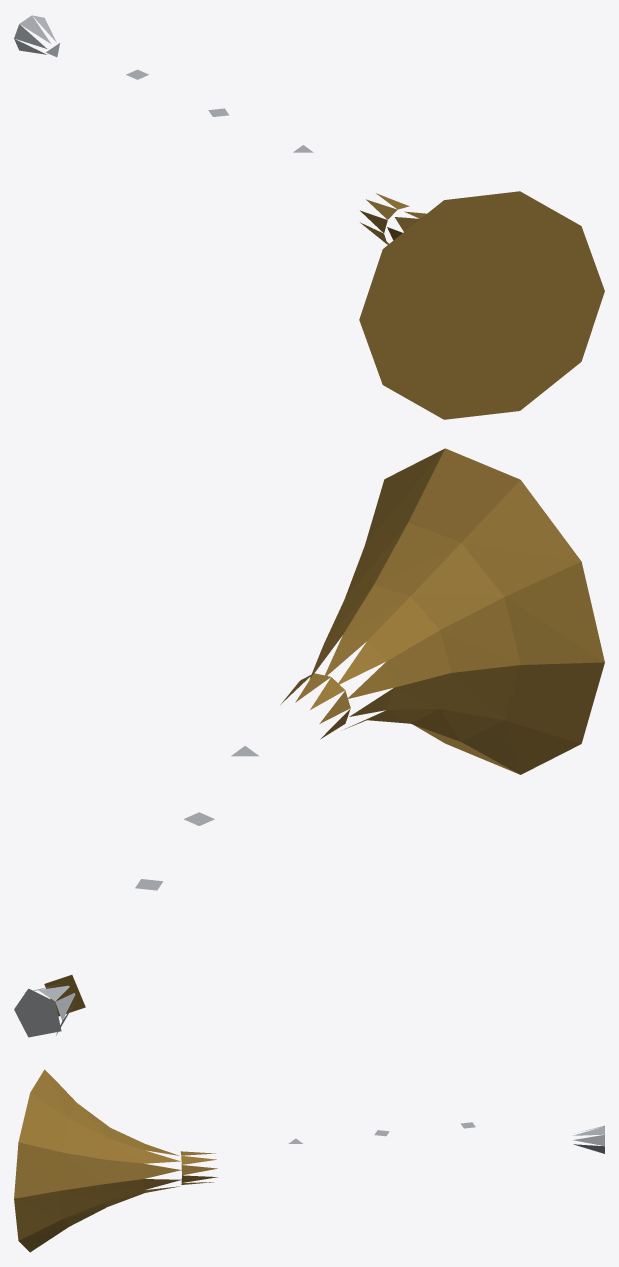
Rendered from kloo-horn.lod.glb.
3 views of the same model, one above another, from view 1: azimuth 30°, elevation 25°; view 2: azimuth 150°, elevation 25°; view 3: azimuth 270°, elevation 25° (orthographic). The views are drawn at different scales.
Parts seen in each view (by area): view 1: m; view 2: m; view 3: m.
Part boxes in pixels (x1,y1,x2,y2): m: (14, 15, 604, 419); m: (14, 448, 604, 1037); m: (14, 1069, 604, 1252).
Size of the model in its own units: 0.1578 by 0.155 by 0.52.
